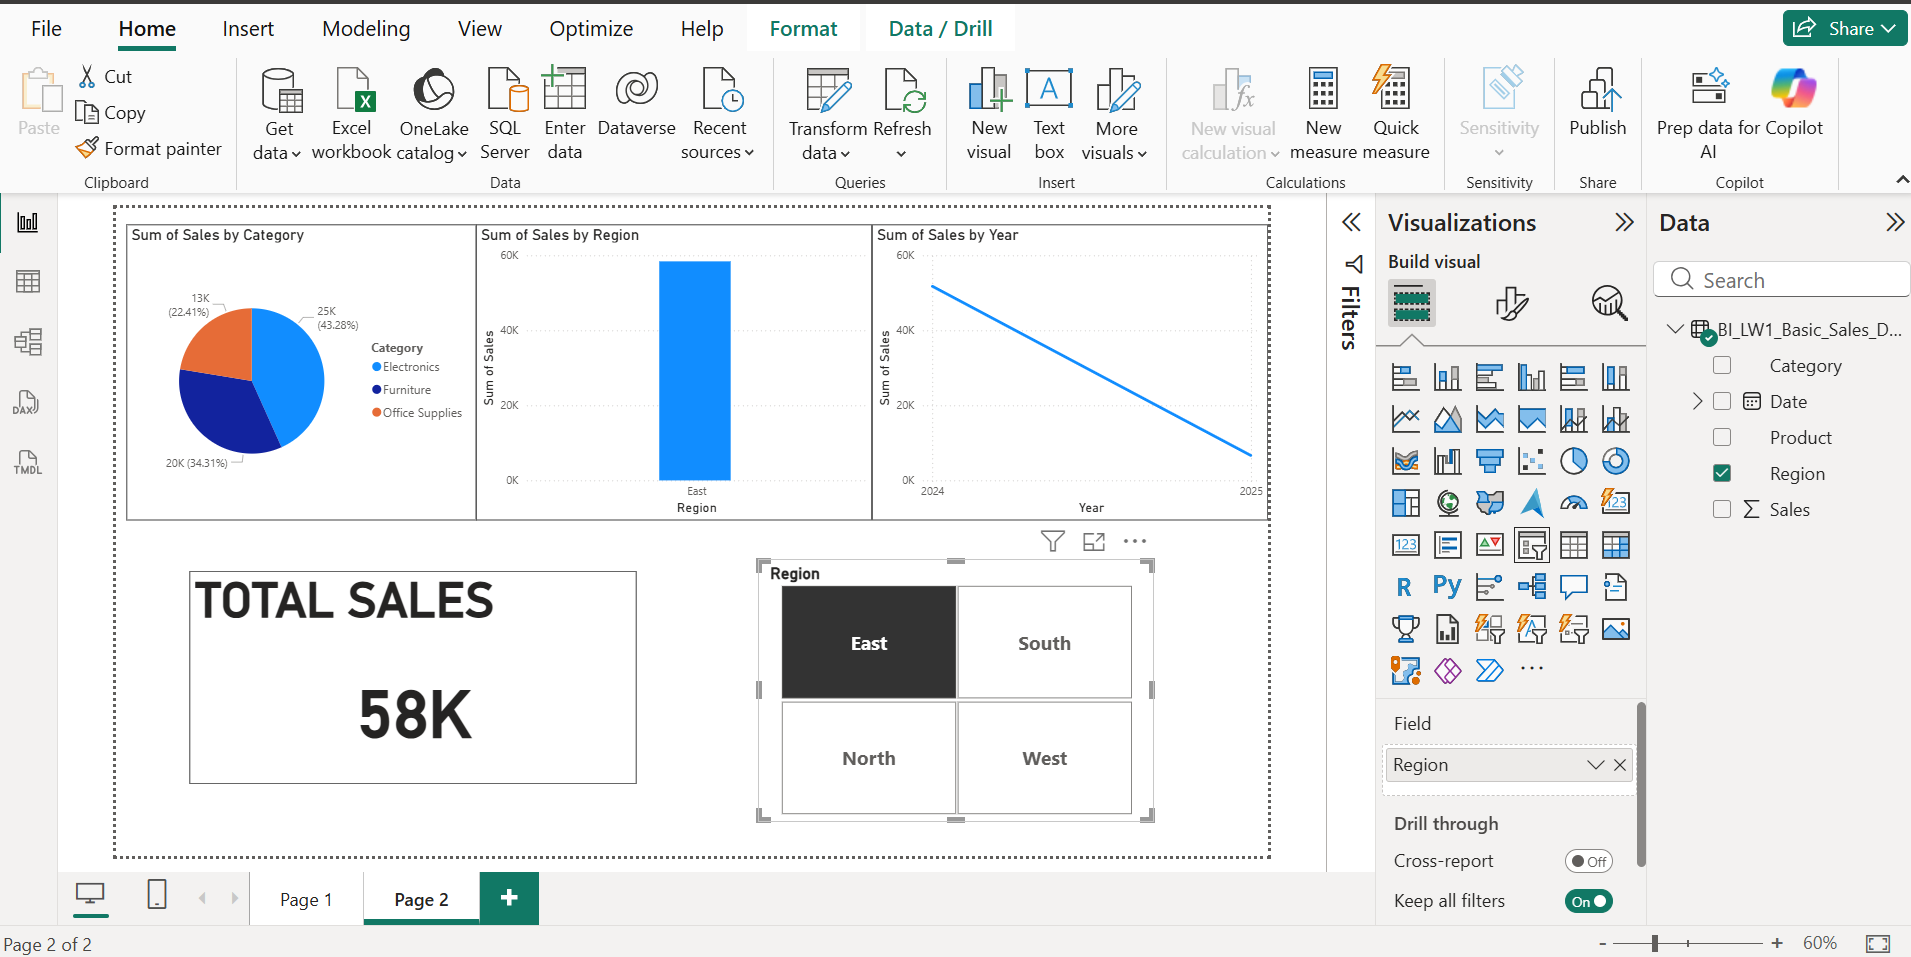

This screenshot's page, from the dashboard's own definition file:
{"tool":"powerbi","page":{"name":"Page 2","canvas":[1280,720],"ordinal":1},"visuals":[{"type":"card","title":"Total Sales","fields":{"Values":["Sum(BI_LW1_Basic_Sales_Data.Sales)"]},"box":[419.4,397.2,352.8,283.3],"z":0},{"type":"clusteredColumnChart","fields":{"Category":["BI_LW1_Basic_Sales_Data.Region"],"Y":["Sum(BI_LW1_Basic_Sales_Data.Sales)"]},"box":[22.2,27.8,375,333.3],"z":1000},{"type":"pieChart","fields":{"Category":["BI_LW1_Basic_Sales_Data.Category"],"Y":["Sum(BI_LW1_Basic_Sales_Data.Sales)"]},"box":[397.2,27.8,375,330.6],"z":2000},{"type":"lineChart","fields":{"Category":["BI_LW1_Basic_Sales_Data.Date.Variation.Date Hierarchy.Year","BI_LW1_Basic_Sales_Data.Date.Variation.Date Hierarchy.Quarter","BI_LW1_Basic_Sales_Data.Date.Variation.Date Hierarchy.Month","BI_LW1_Basic_Sales_Data.Date.Variation.Date Hierarchy.Day"],"Y":["Sum(BI_LW1_Basic_Sales_Data.Sales)"]},"box":[22,371,375,333],"z":2001},{"type":"slicer","fields":{"Values":["BI_LW1_Basic_Sales_Data.Region"]},"box":[838.5,209.2,375.4,329.2],"z":2002}]}

Visuals, with their boxes on the page's 1280x720 design canvas (x1, y1, x2, y2). These are canvas units, not pixel positions in the 1911x957 screenshot, which may show the page scaled, cropped or inside an application window:
"Total Sales" card: detection(419, 397, 772, 680)
clusteredColumnChart - BI_LW1_Basic_Sales_Data.Region x Sum(BI_LW1_Basic_Sales_Data.Sales): detection(22, 28, 397, 361)
pieChart - BI_LW1_Basic_Sales_Data.Category x Sum(BI_LW1_Basic_Sales_Data.Sales): detection(397, 28, 772, 358)
lineChart - BI_LW1_Basic_Sales_Data.Date.Variation.Date Hierarchy.Year x BI_LW1_Basic_Sales_Data.Date.Variation.Date Hierarchy.Quarter: detection(22, 371, 397, 704)
slicer - BI_LW1_Basic_Sales_Data.Region: detection(838, 209, 1214, 538)
